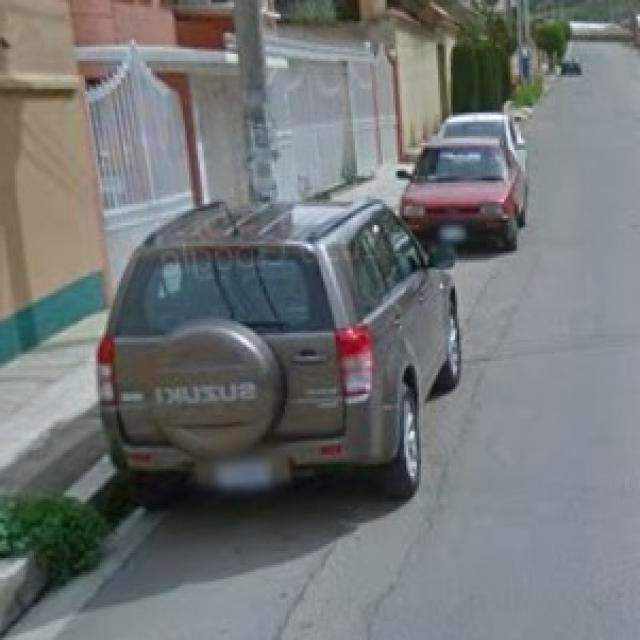Car: (92, 194, 450, 519), (393, 124, 528, 248)
